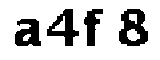4: (44, 6, 81, 53)
8: (117, 6, 151, 48)
a: (10, 18, 42, 52)
f: (83, 8, 108, 46)
